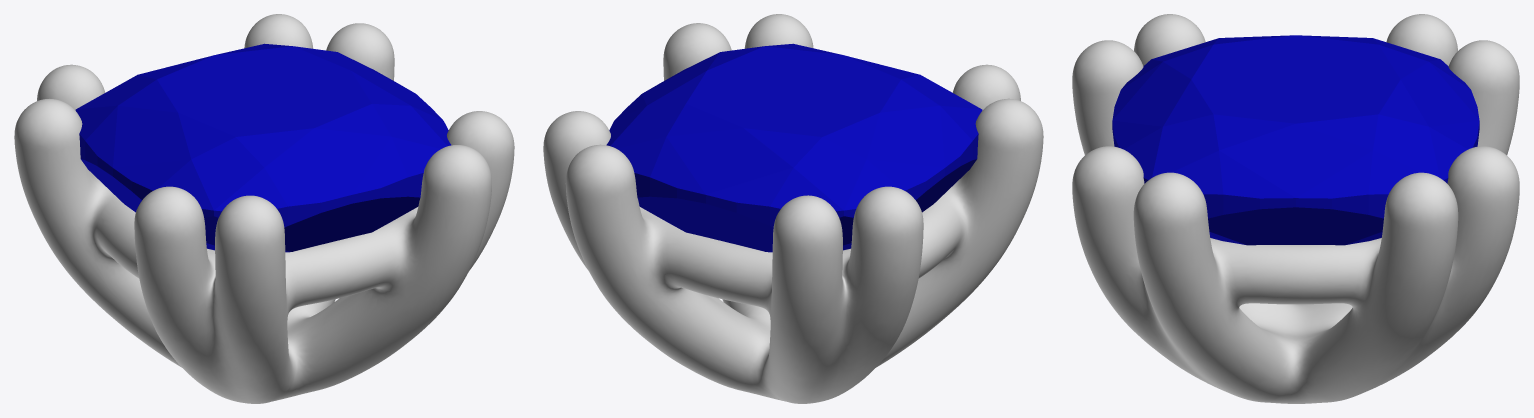
The model's file is Cushion square.glb.
The picture shows the model from 3 angles, left to right: view 1: azimuth 30°, elevation 25°; view 2: azimuth 150°, elevation 25°; view 3: azimuth 270°, elevation 25°; orthographic projection. The views are drawn at different scales.
Visible parts, largest first — view 1: /GSMOD388300- DOUBLE PRONG_CUSHION SQUARE_IJ.3dm, Diamond_Cushion Square; view 2: /GSMOD388300- DOUBLE PRONG_CUSHION SQUARE_IJ.3dm, Diamond_Cushion Square; view 3: /GSMOD388300- DOUBLE PRONG_CUSHION SQUARE_IJ.3dm, Diamond_Cushion Square.
Part boxes in pixels (box(x1,y1,x2,y2)): /GSMOD388300- DOUBLE PRONG_CUSHION SQUARE_IJ.3dm: box(14, 14, 514, 403); Diamond_Cushion Square: box(75, 43, 451, 252); /GSMOD388300- DOUBLE PRONG_CUSHION SQUARE_IJ.3dm: box(543, 14, 1043, 403); Diamond_Cushion Square: box(606, 43, 982, 252); /GSMOD388300- DOUBLE PRONG_CUSHION SQUARE_IJ.3dm: box(1072, 14, 1519, 403); Diamond_Cushion Square: box(1112, 35, 1479, 245).
Size of the model in its own units: 8.17 by 6.38 by 8.14.
